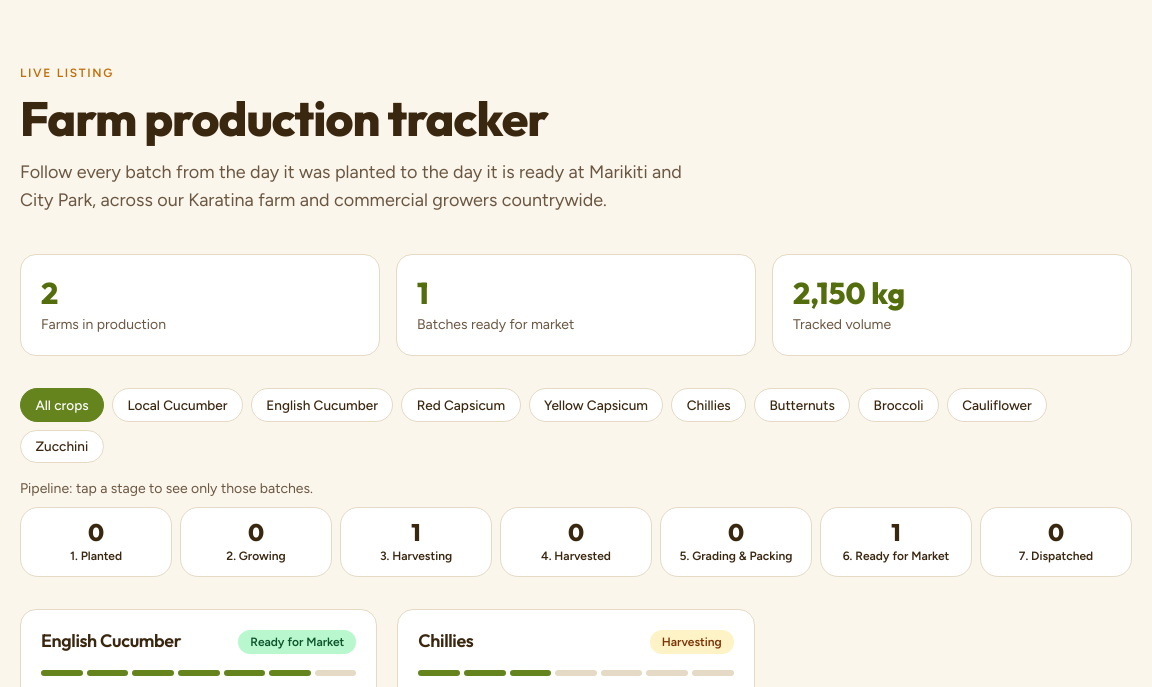
Scenario: Farm tracker (public) › shows an empty-state message when nothing matches
The image size is (1152, 687).
Check: the heading "English Cucumber" is shown, box [41, 630, 181, 653]
Click the button "0 7. Dispatched" at (1056, 542), box [980, 507, 1132, 577]
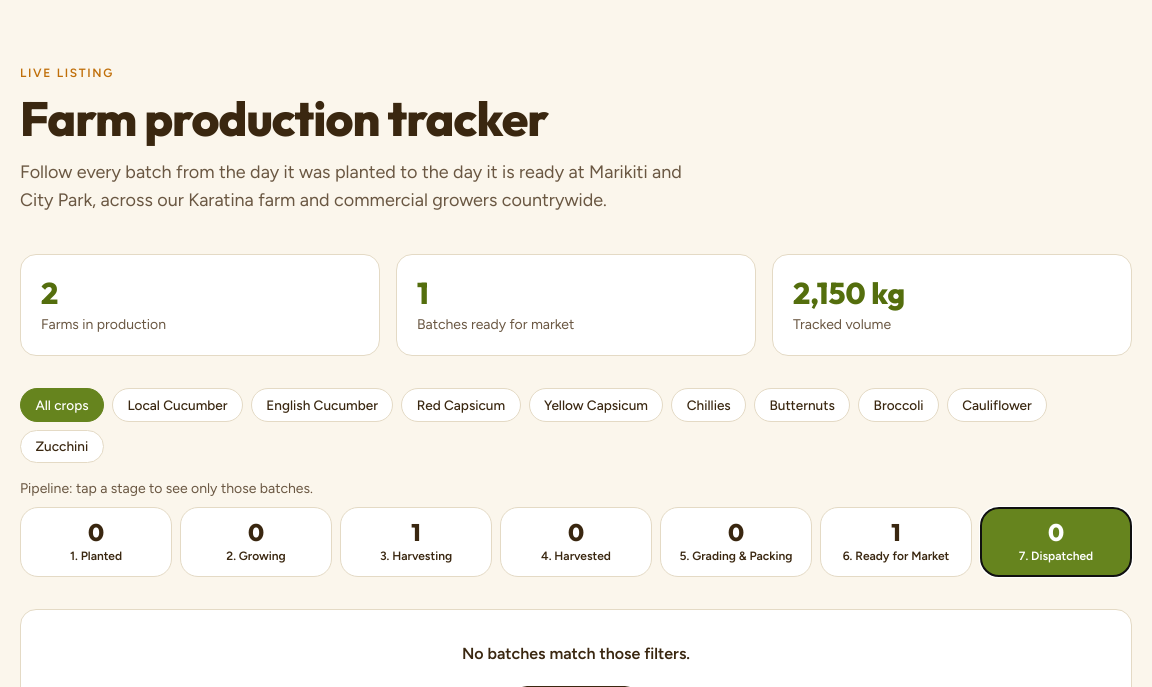
Check: the text "No batches match those filters." is shown, box [462, 644, 690, 663]
